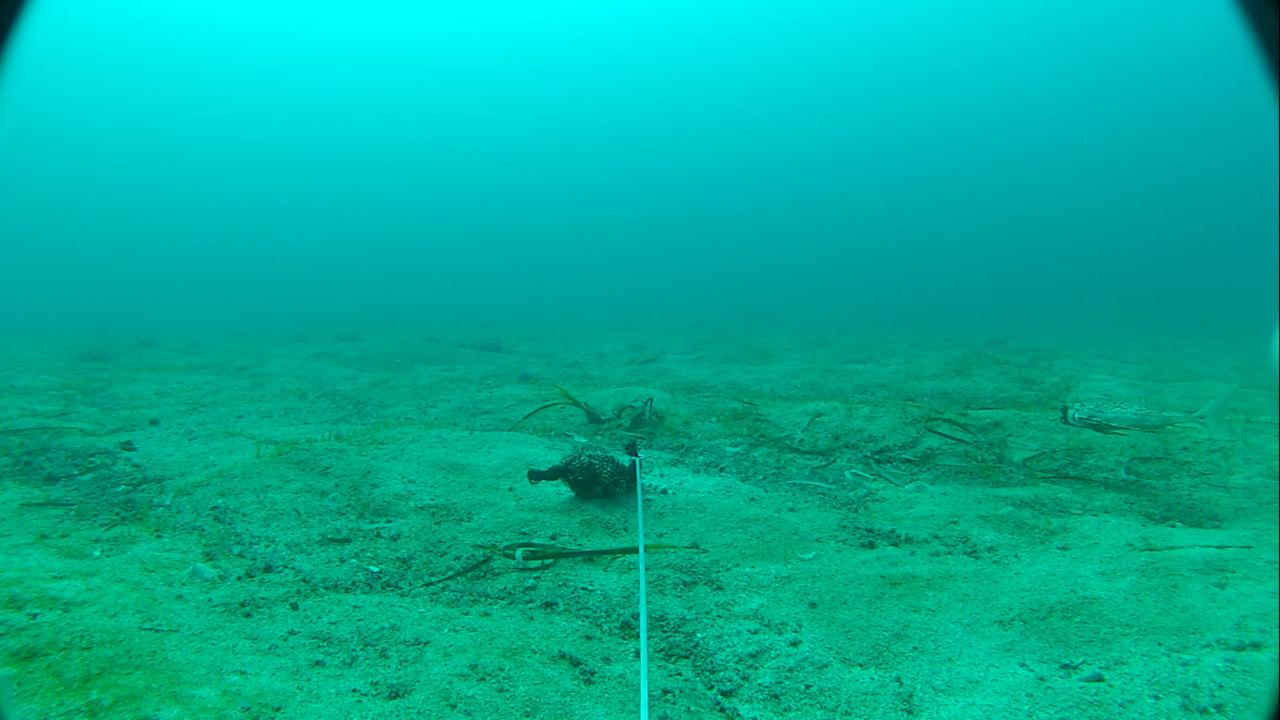dactylopterus: (1047, 392, 1240, 448)
